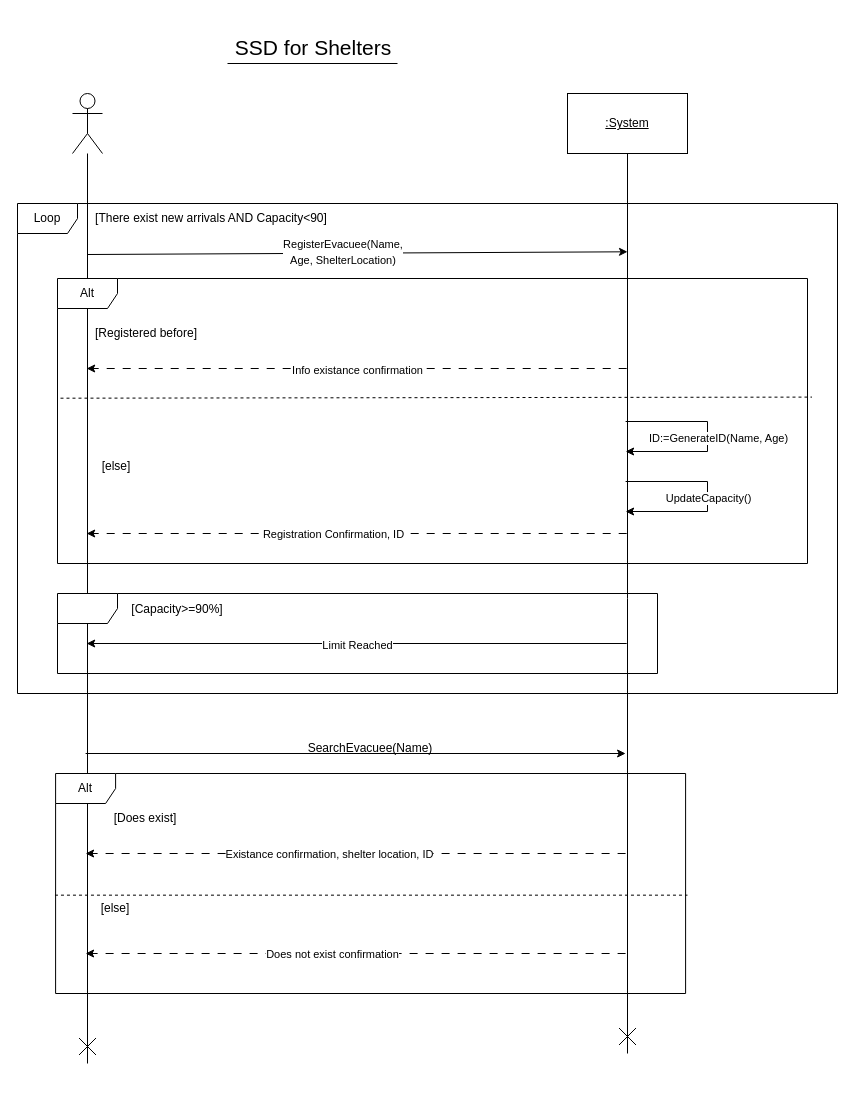
The diagram is 855 pixels wide and 1098 high, and some of its shapes have lost their labels. The box of each missing label's shape, as (x1, y1, x2, y2) in pixels:
Opt: (56, 592, 658, 674)
Volunteer: (72, 92, 102, 154)
